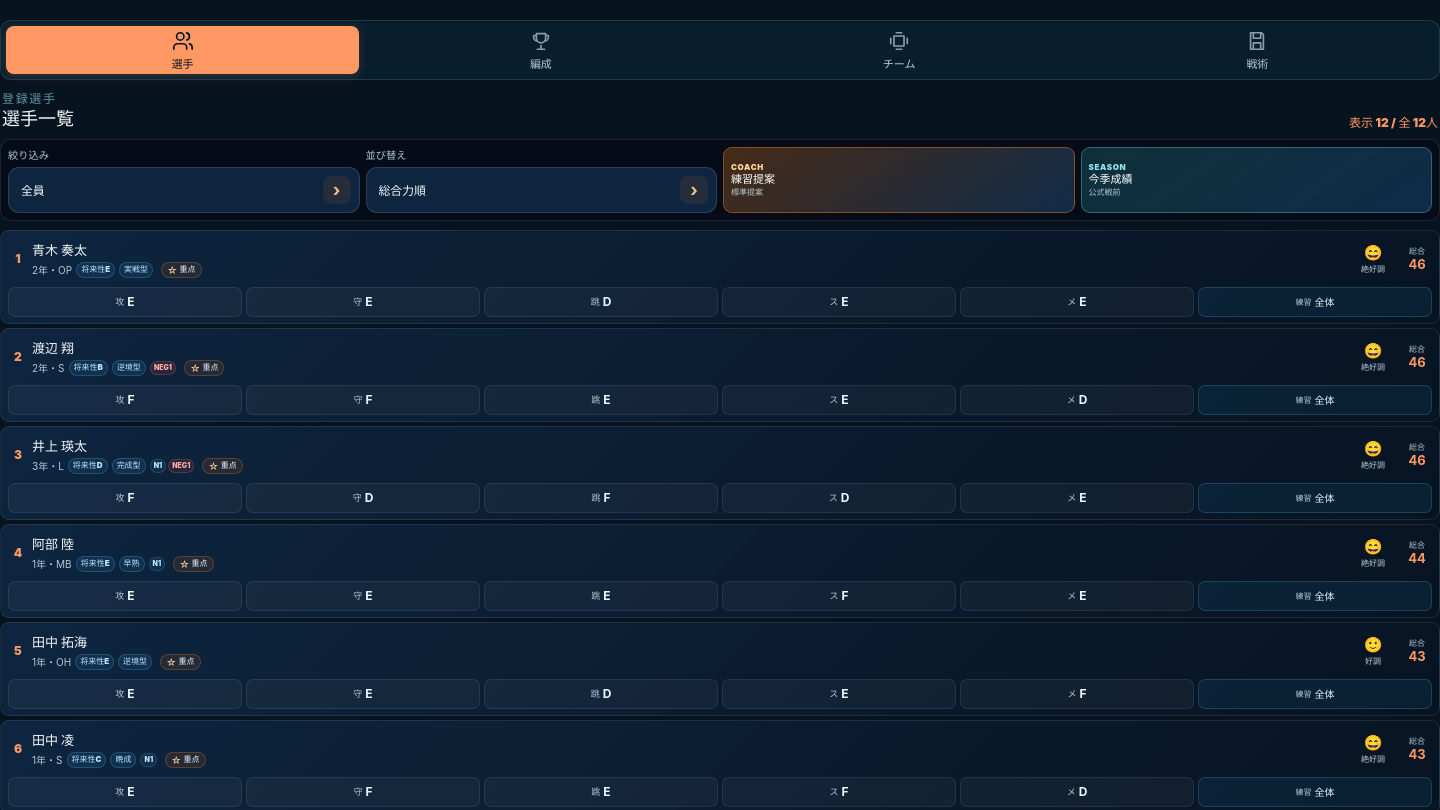
Phase54 season leaderboard UI › shows an empty-state before the first official match
Click the button with aria-label "今季の公式戦成績" at (1107, 167), box [1080,147,1432,213]
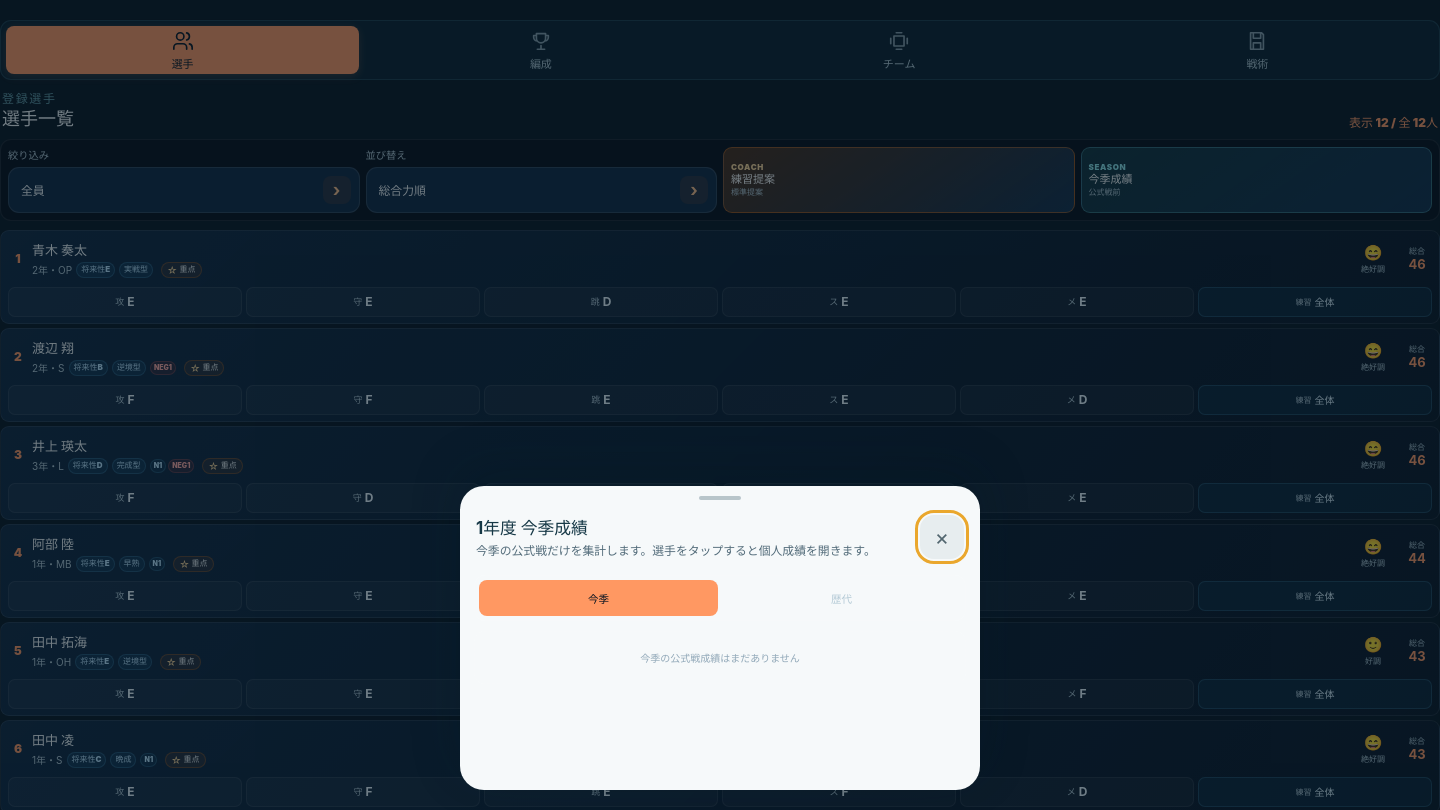
Expected: the text "今季の公式戦成績はまだありません" is shown, [474,631,966,684]
